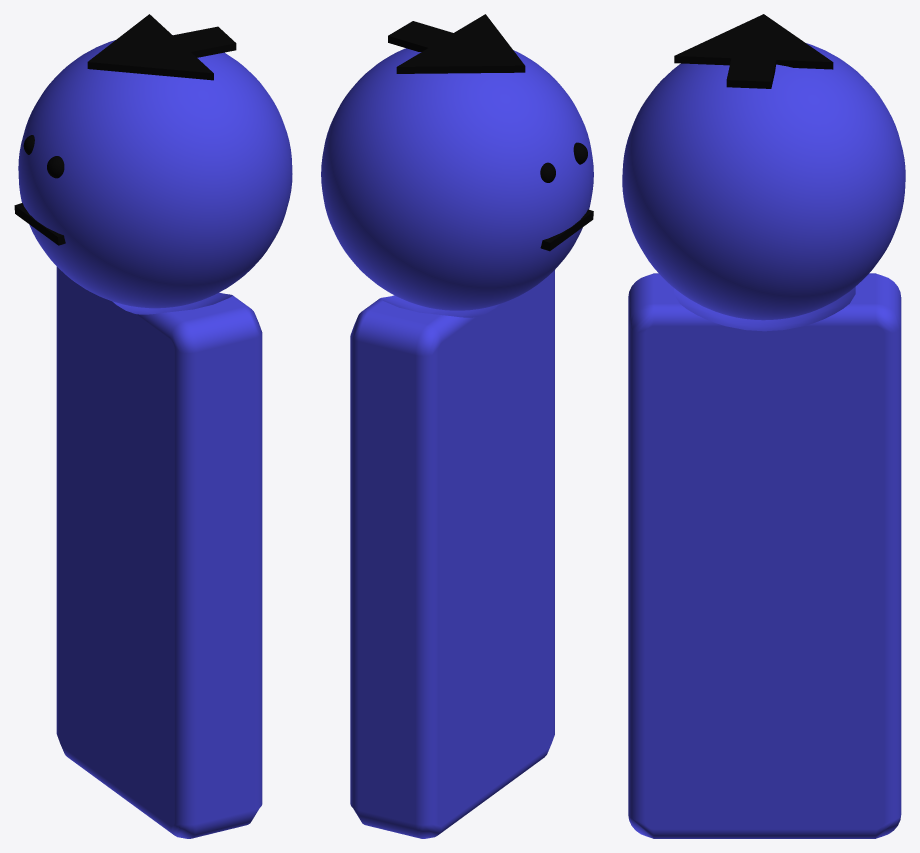
Rendered from purple_poker.obj.
3 views of the same model, side by side, from view 1: azimuth 30°, elevation 25°; view 2: azimuth 150°, elevation 25°; view 3: azimuth 270°, elevation 25° (orthographic). The views are drawn at different scales.
Parts seen in each view (by area): view 1: 1_Curve.002_Curve.002, 5.002_Curve.002_Curve.002; view 2: 1_Curve.002_Curve.002, 5.002_Curve.002_Curve.002; view 3: 1_Curve.002_Curve.002, 5.002_Curve.002_Curve.002.
Boxes of the visible parts, box(x1,y1,x2,y2) form: 1_Curve.002_Curve.002: box(18, 40, 292, 838); 5.002_Curve.002_Curve.002: box(14, 14, 236, 245); 1_Curve.002_Curve.002: box(321, 48, 593, 838); 5.002_Curve.002_Curve.002: box(388, 14, 593, 251); 1_Curve.002_Curve.002: box(622, 43, 905, 838); 5.002_Curve.002_Curve.002: box(674, 14, 833, 88).
Bounding box in the file's own units: 0.1662 × 0.4993 × 0.1661.
